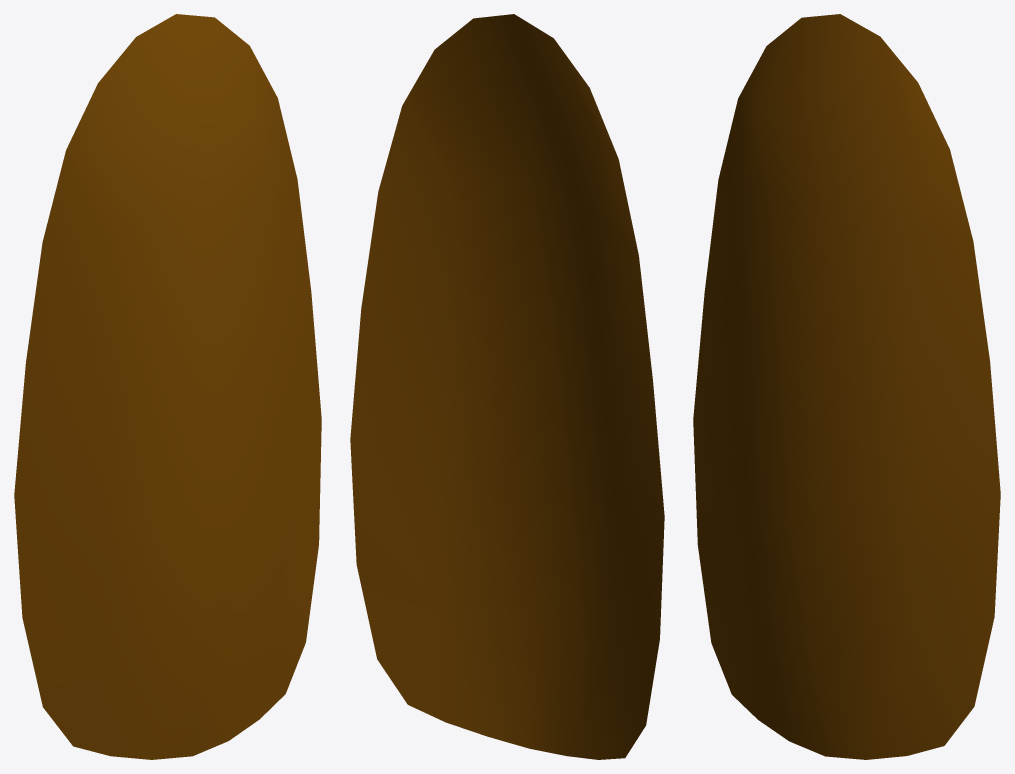
File: MD_nail_oval_HandL.Middle.fbx
The picture shows the model from 3 angles, left to right: view 1: azimuth 30°, elevation 25°; view 2: azimuth 150°, elevation 25°; view 3: azimuth 330°, elevation 25°; orthographic projection. The views are drawn at different scales.
Visible parts, largest first — view 1: MD_nail_oval_HandL.Middle; view 2: MD_nail_oval_HandL.Middle; view 3: MD_nail_oval_HandL.Middle.
Part boxes in pixels (x1,y1,x2,y2): MD_nail_oval_HandL.Middle: (14,14,321,759); MD_nail_oval_HandL.Middle: (350,14,664,759); MD_nail_oval_HandL.Middle: (693,14,1000,759).
Bounding box in the file's own units: 0.7542 × 1.71 × 0.1448.
